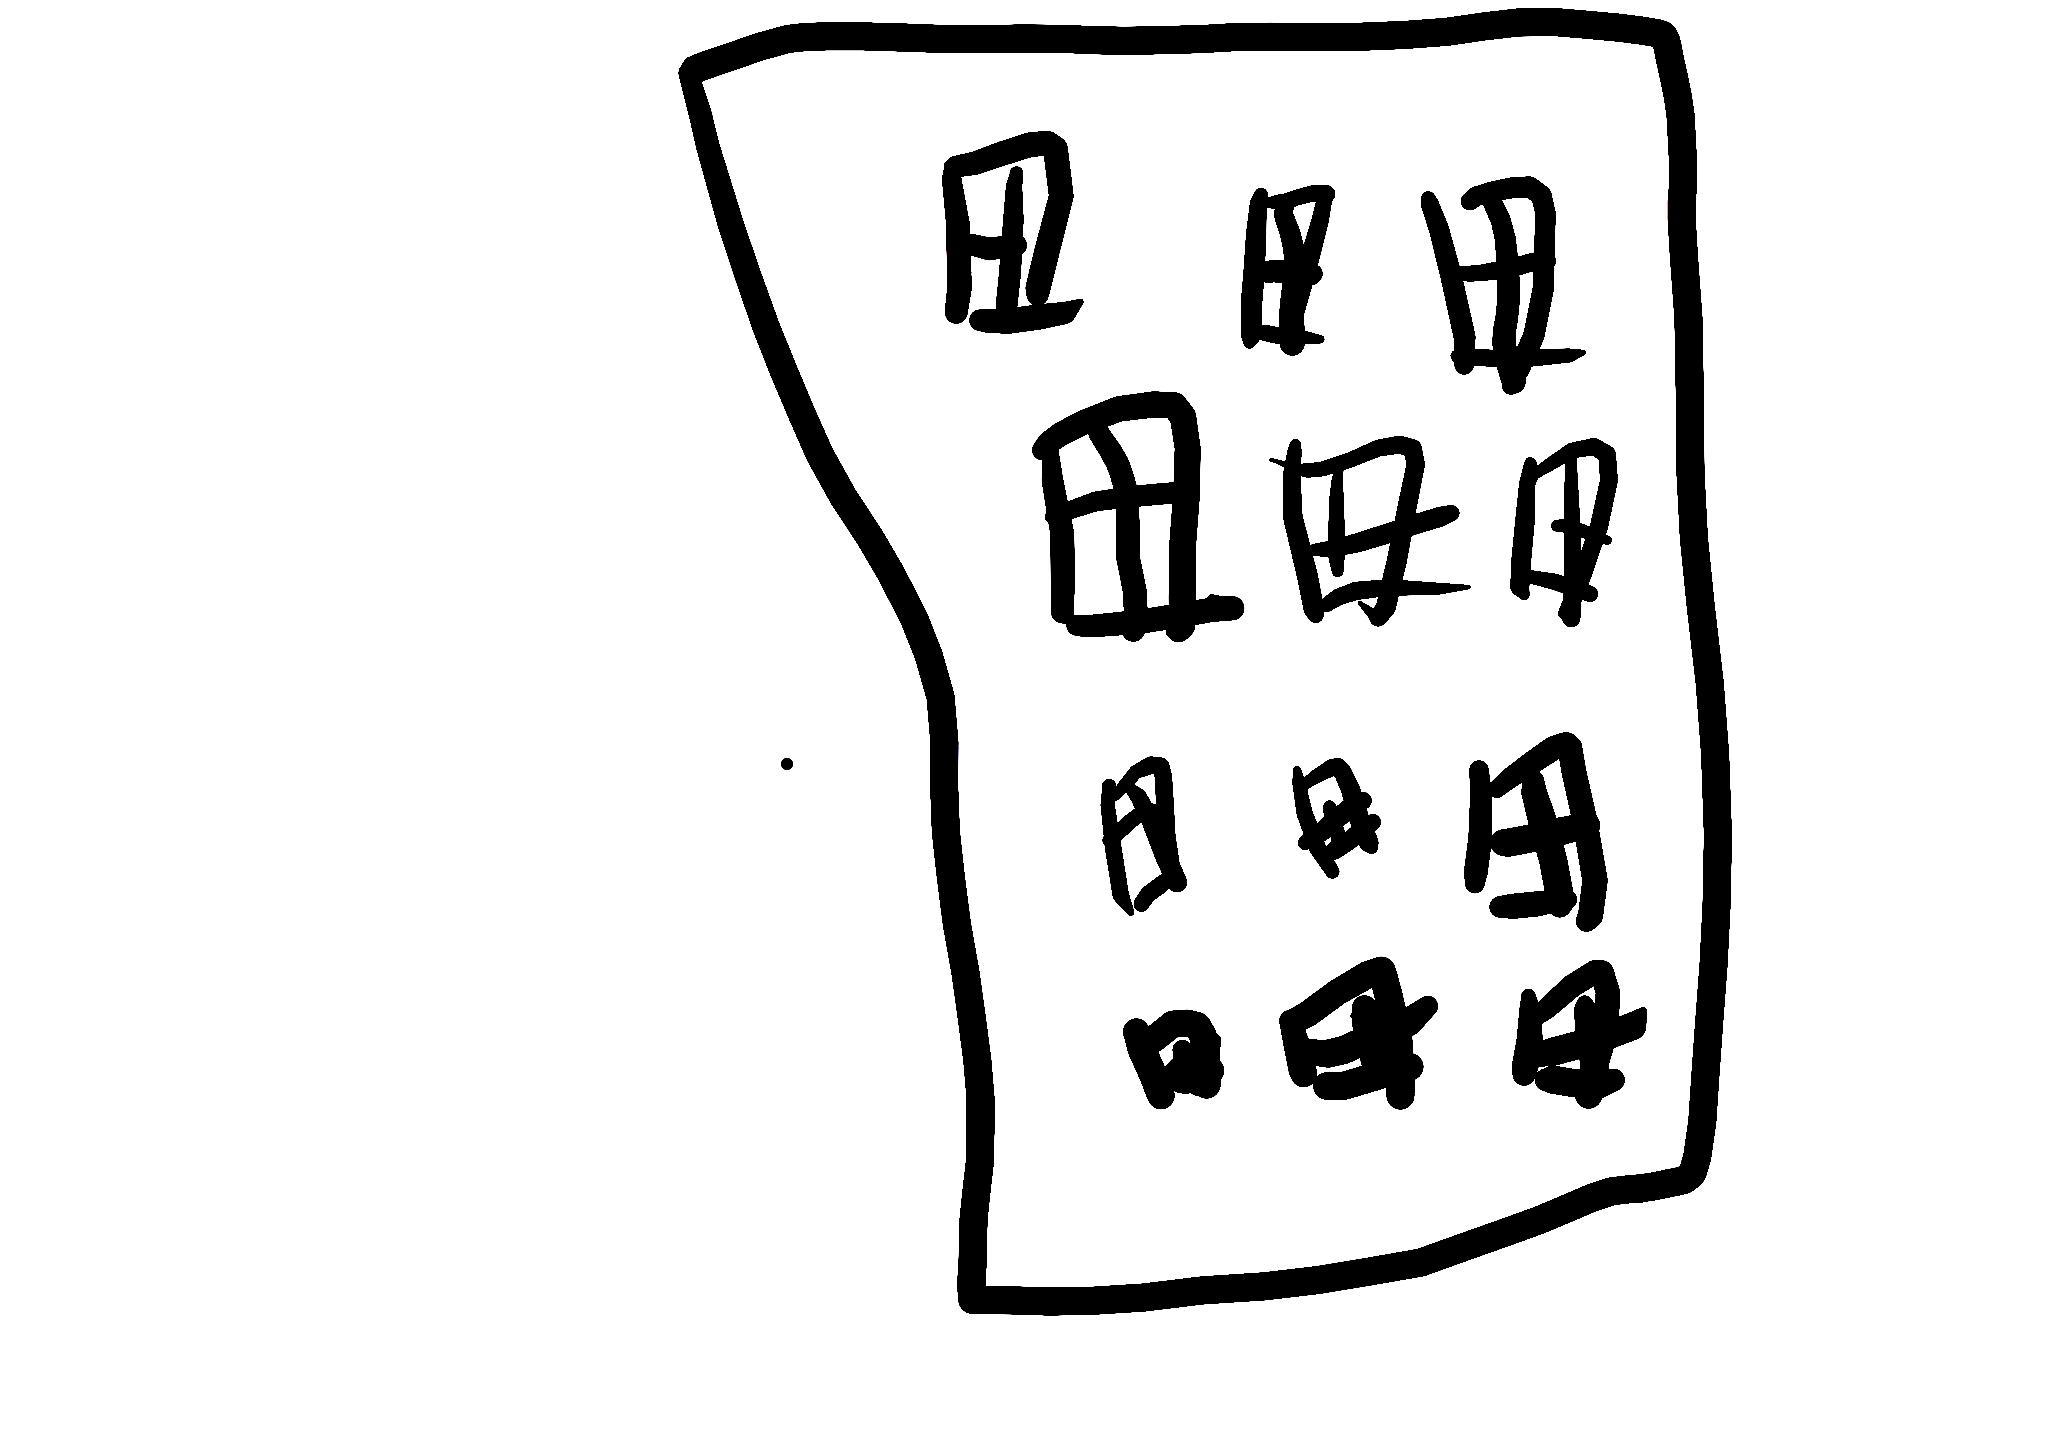house: (668, 6, 1742, 1317)
wall: (682, 6, 1731, 1316)
window: (1033, 392, 1203, 640), (1466, 732, 1610, 931), (1272, 434, 1424, 619), (1424, 174, 1559, 372), (944, 129, 1069, 331), (1283, 958, 1416, 1110), (1513, 438, 1621, 605), (1515, 963, 1629, 1110), (1242, 183, 1336, 354), (1102, 757, 1189, 916), (1294, 757, 1383, 880), (1126, 1011, 1225, 1110)
